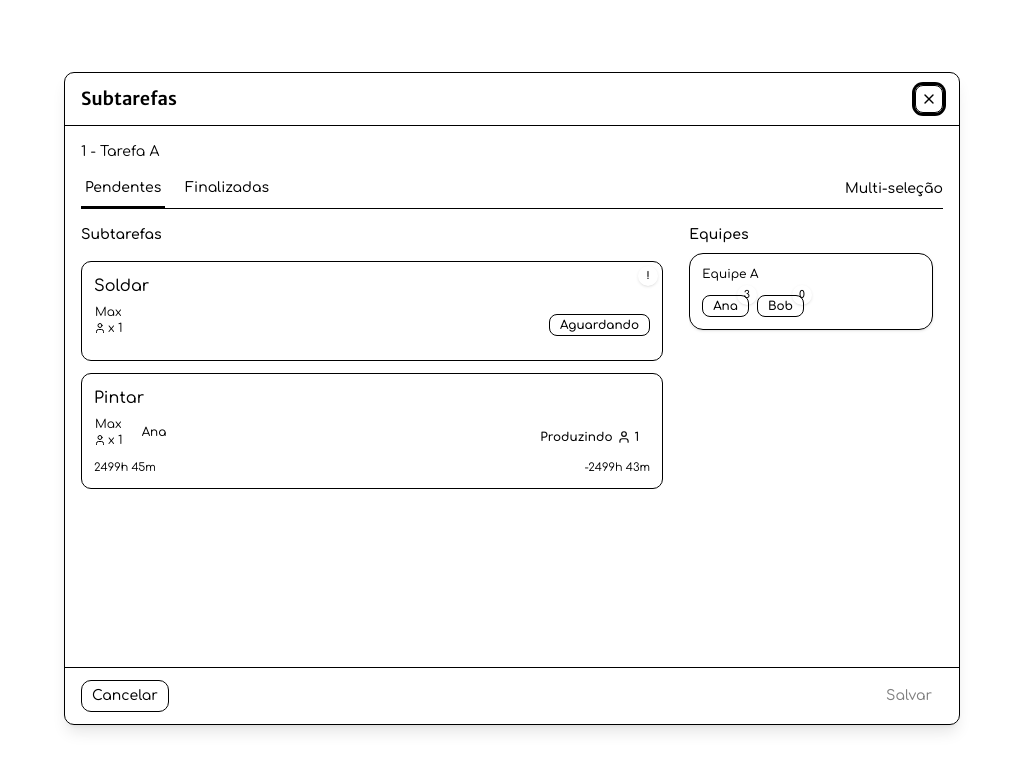
KanbanTaskSubtasksModal › shows finished subtasks with sessions on the finished tab
The width and height of the screenshot is (1024, 768).
Click the tab "Finalizadas" at {"x": 227, "y": 193}, box [181,178,273,208]
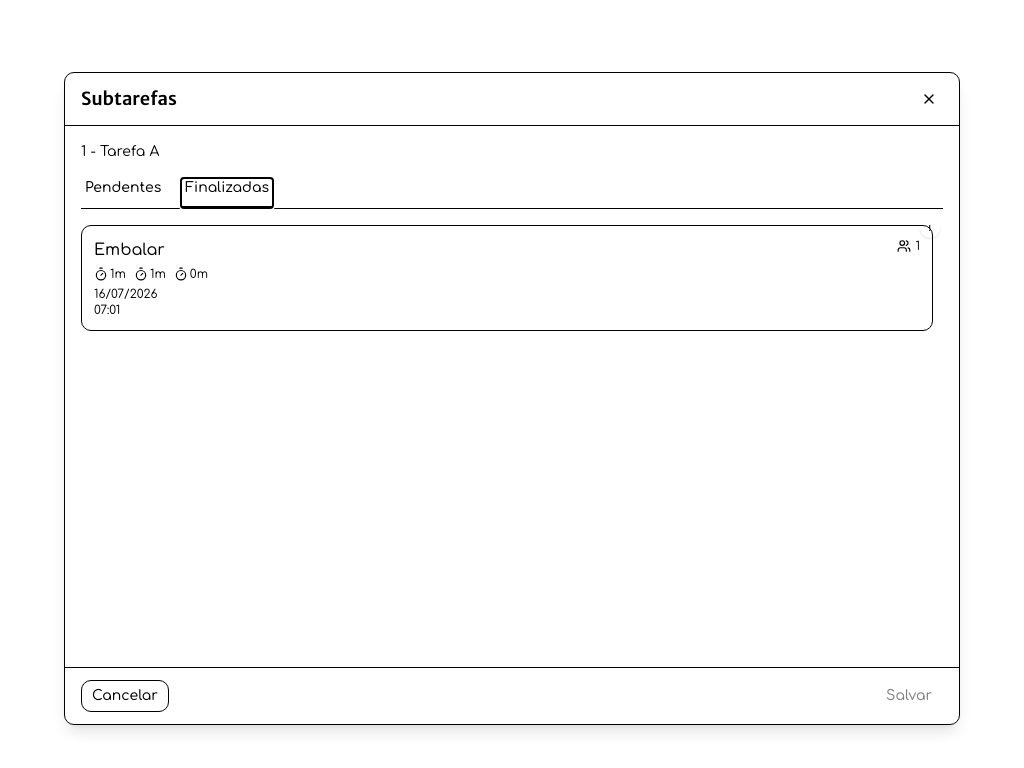
Expected: the text "Embalar" is shown, [94,241,165,259]
Expected: the element named "1 colaborador(es)" is shown, [898,238,920,254]
Expected: the element named "Finalizada em" is shown, [94,287,157,317]
